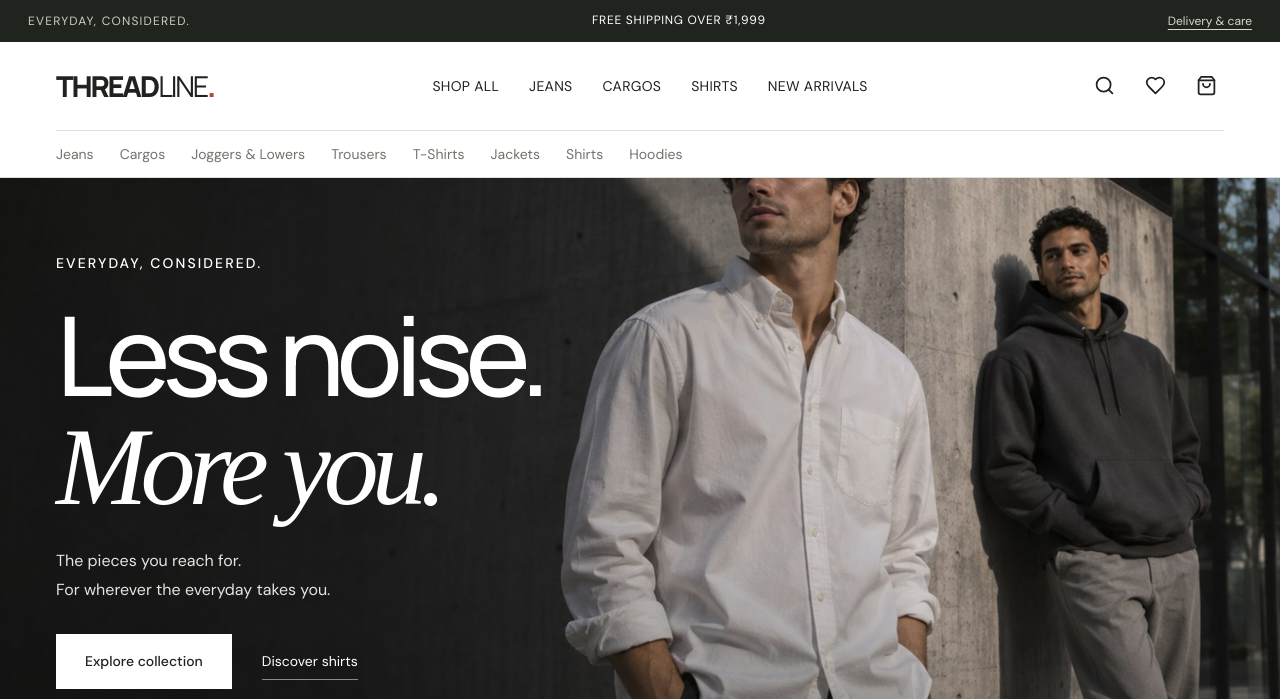
shop page › shows an empty state when nothing matches
The image size is (1280, 699).
Step 1. Click the button named "Search products" → (1104, 86), box [1086,66,1122,106]
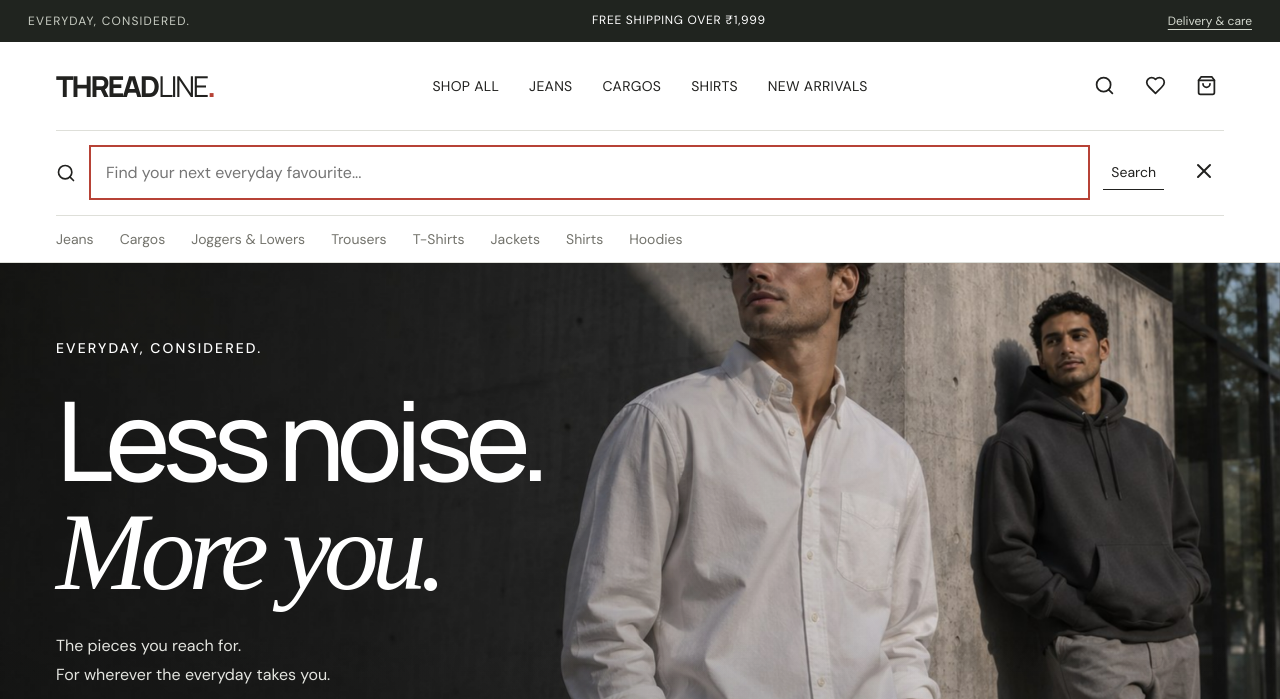
Step 2. Type "zzzz" into the field named "Search catalogue" → (590, 173), box [96,152,1083,193]
Then press Enter
(page scrolled)
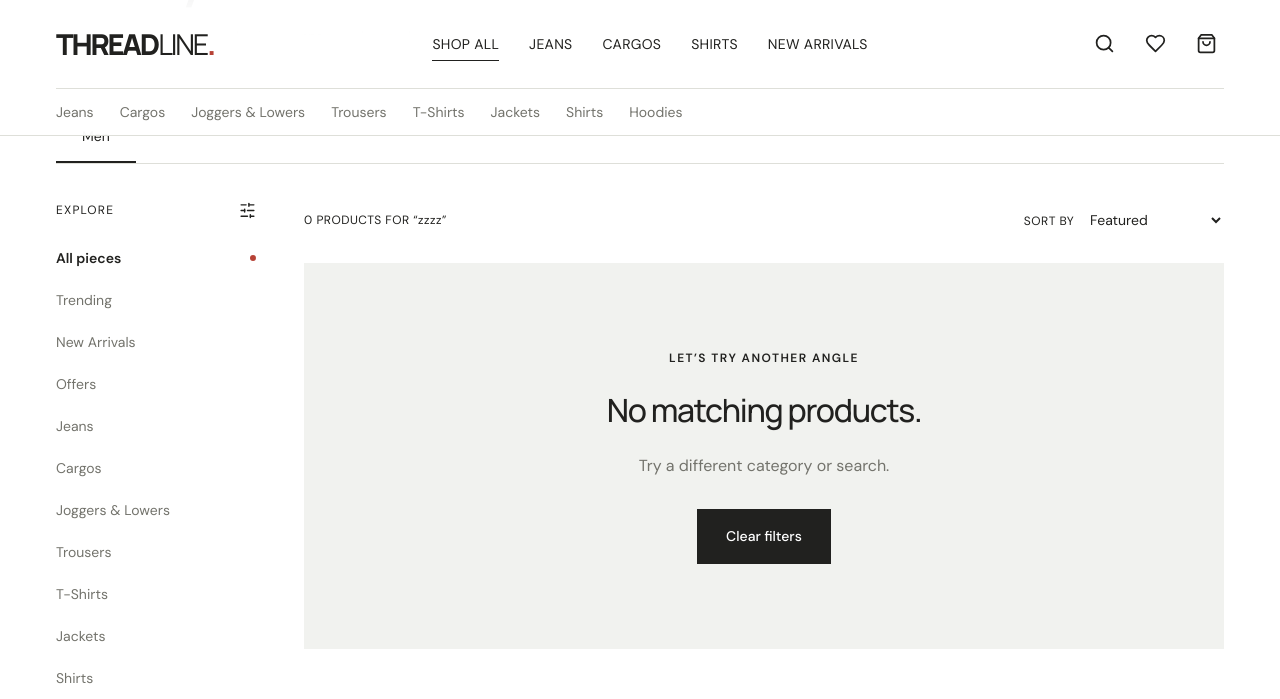
Expected: the heading "No matching products." is shown, [607,388,921,432]
